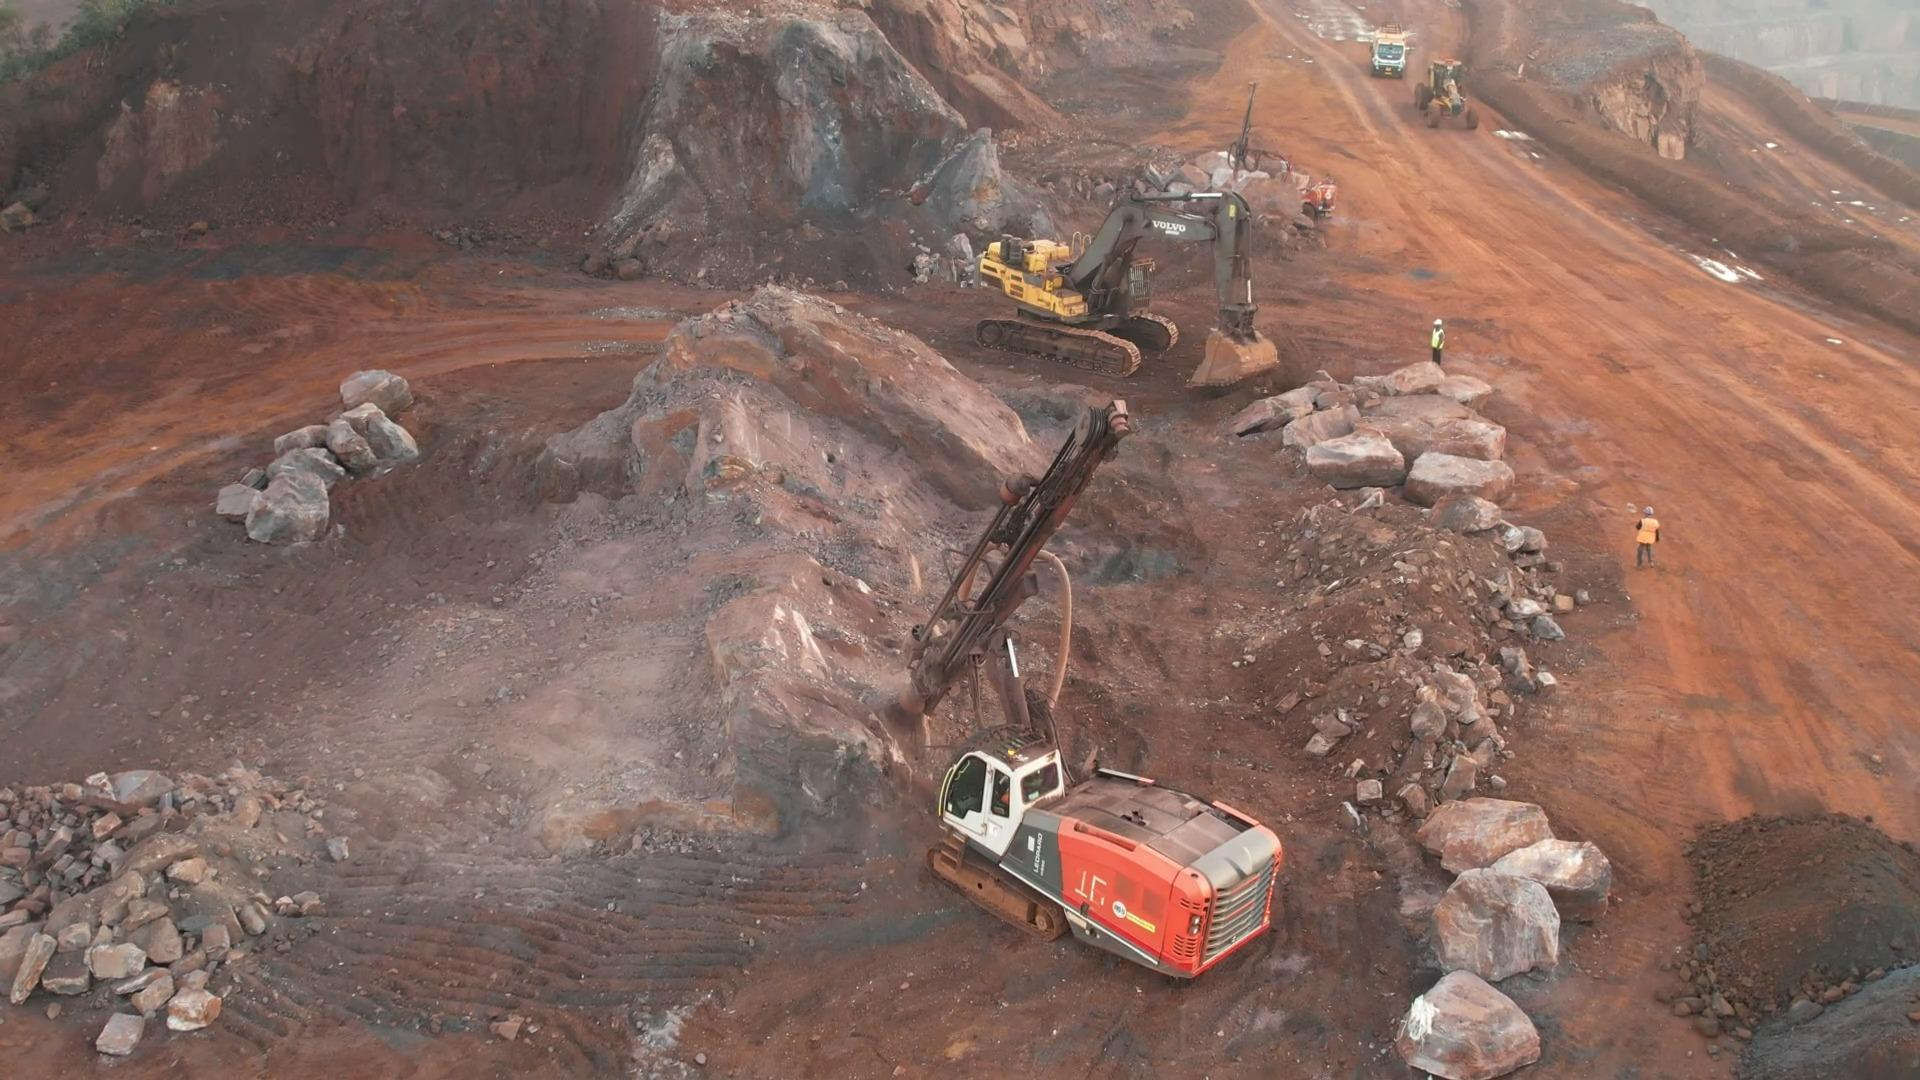excavator: (989, 190, 1261, 364)
